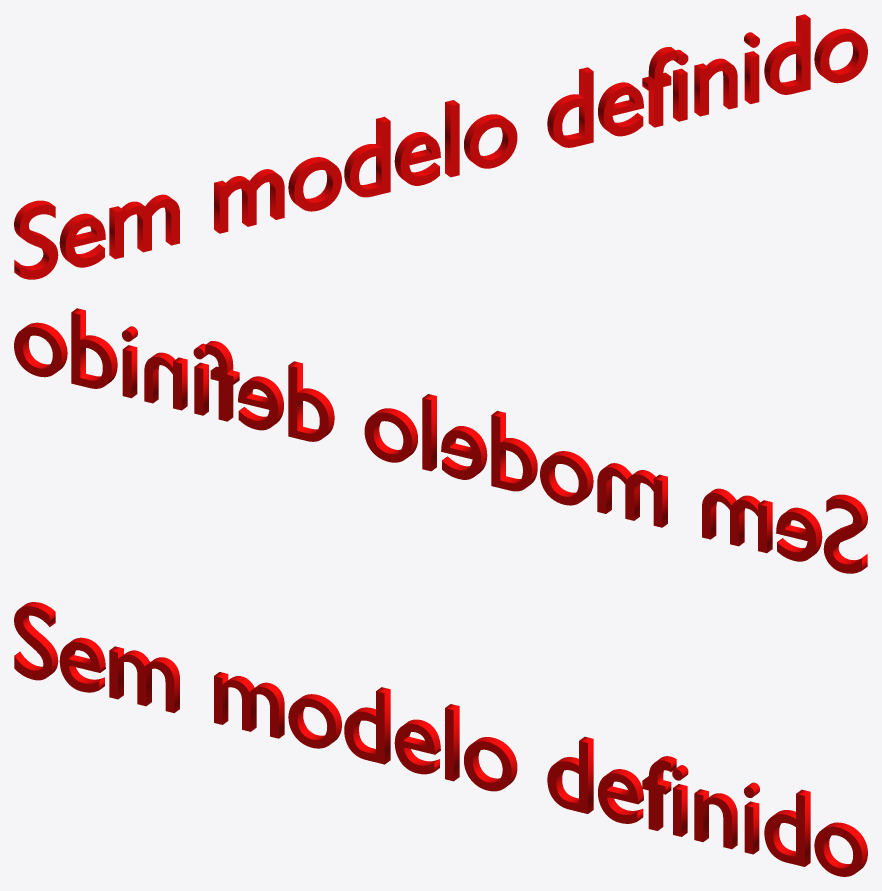
Rendered from mensagem.glb.
3 views of the same model, one above another, from view 1: azimuth 30°, elevation 25°; view 2: azimuth 150°, elevation 25°; view 3: azimuth 330°, elevation 25° (orthographic).
Parts seen in each view (by area): view 1: Text; view 2: Text; view 3: Text.
Part boxes in pixels (left/top/right/bottom): Text: left=14, top=14, right=867, bottom=279; Text: left=14, top=308, right=867, bottom=573; Text: left=14, top=602, right=867, bottom=876.
Bounding box in the file's own units: 2.16 × 0.1781 × 0.0254.
